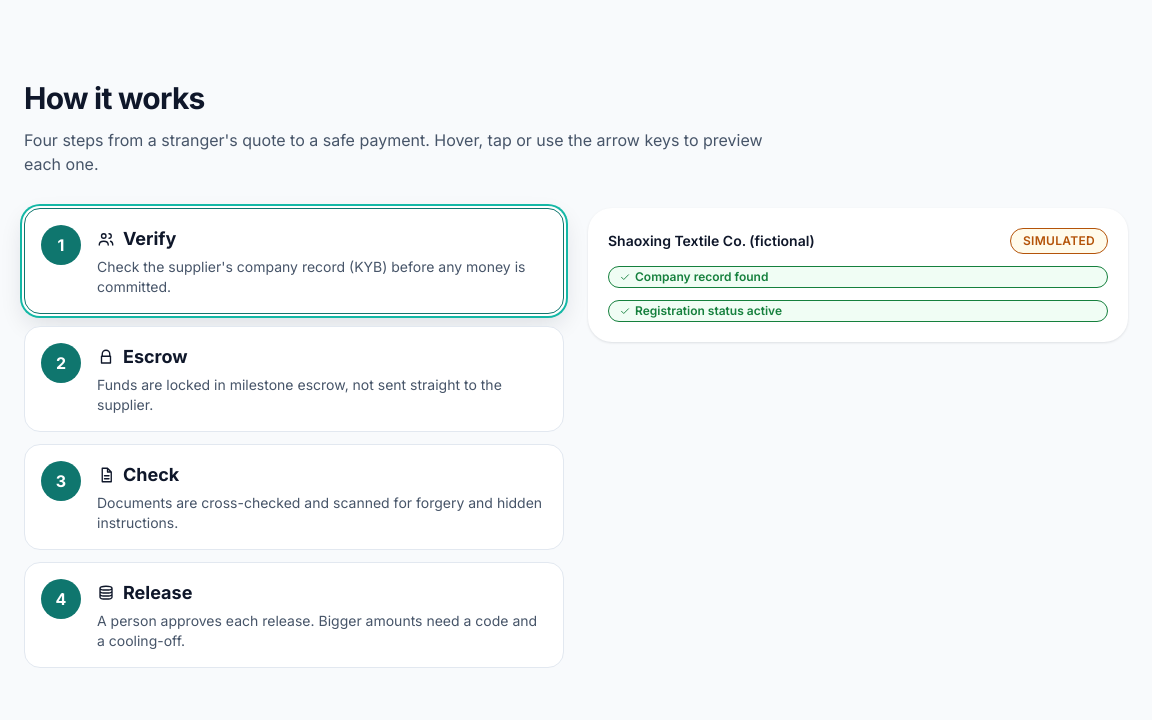
Test: HowItWorks › has tablist semantics, arrow-key navigation and a matching panel
Press ArrowDown in the tab that starts with "Verify", box [24, 208, 564, 314]
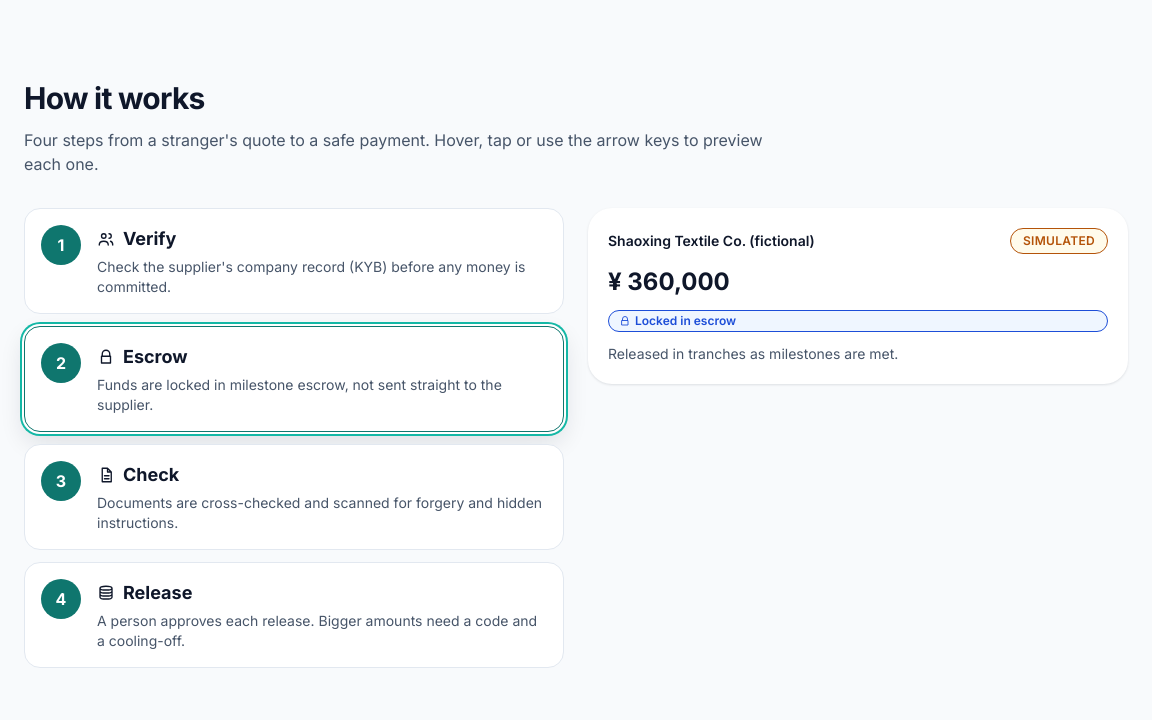
Result: the panel shows "Locked in escrow" at [635, 313, 736, 328]
Press End in the tab that starts with "Escrow", box [24, 326, 564, 432]
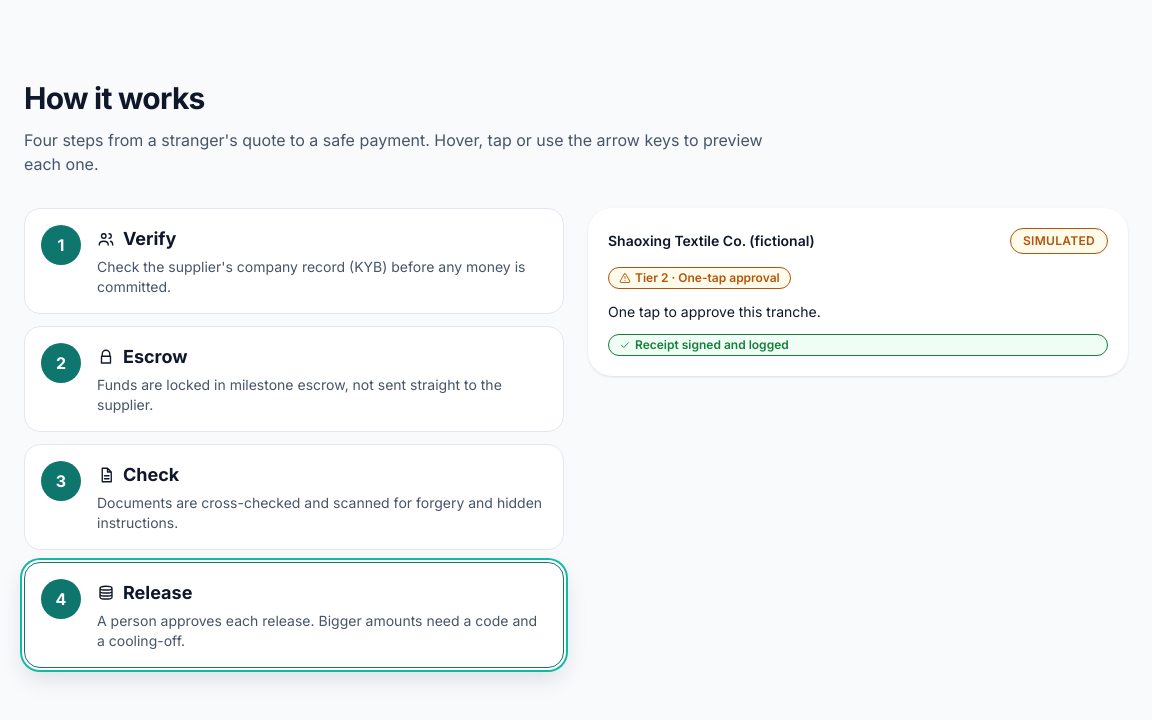
Result: the tab that starts with "Release" is selected at [24, 562, 564, 668]
Hover over the tab that starts with "Check": point(294, 497) [24, 444, 564, 550]
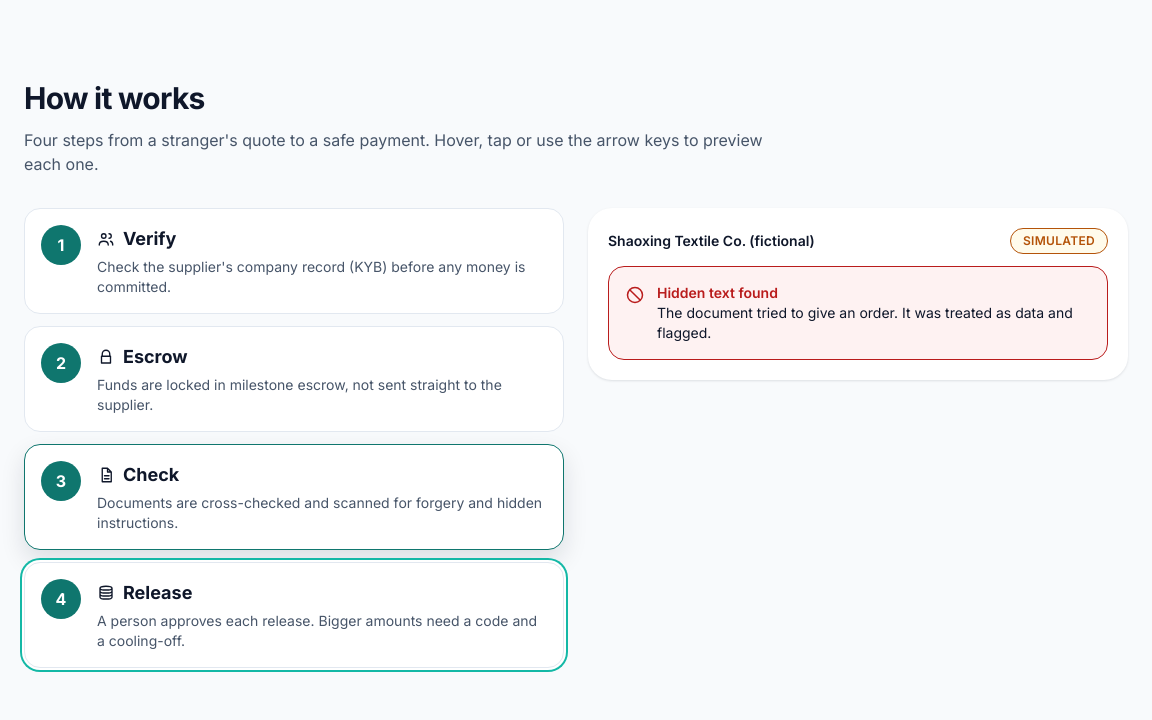
Result: the panel shows "Hidden text found" at [657, 284, 778, 301]
